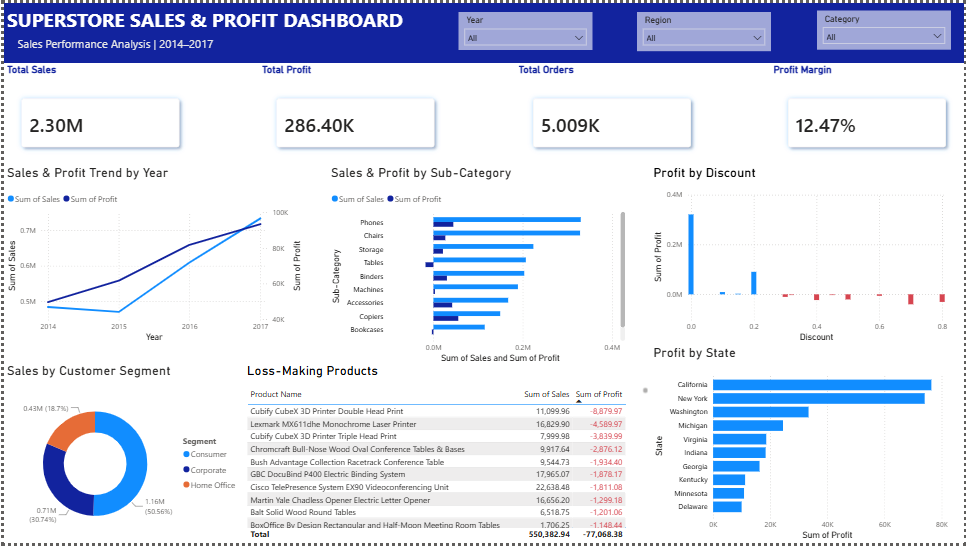

This screenshot's page, from the dashboard's own definition file:
{"tool":"powerbi","page":{"name":"Page 1","canvas":[1600,900],"ordinal":0},"visuals":[{"type":"shape","box":[0,0,1600,100],"z":0},{"type":"cardVisual","title":"Total Sales","fields":{"Data":["Sum(superstore_dataset.Sales)"]},"box":[0,100,321,170],"z":1000},{"type":"cardVisual","title":"Total Profit","fields":{"Data":["Sum(superstore_dataset.Profit)"]},"box":[426.1,100,321,170],"z":2000},{"type":"cardVisual","title":"Total Orders","fields":{"Data":["Count(superstore_dataset.Order ID)"]},"box":[852.2,100,321,170],"z":3000},{"type":"cardVisual","title":"Profit Margin","fields":{"Data":["superstore_dataset.Profit Margin"]},"box":[1278.3,100,321.7,170],"z":4000},{"type":"lineChart","title":"Sales & Profit Trend by Year","fields":{"Category":["superstore_dataset.Order Date.Variation.Date Hierarchy.Year"],"Y":["Sum(superstore_dataset.Sales)"],"Y2":["Sum(superstore_dataset.Profit)"]},"box":[0,270,500,300],"z":5000},{"type":"clusteredBarChart","title":"Sales & Profit by Sub-Category","fields":{"Category":["superstore_dataset.Sub-Category"],"Y":["Sum(superstore_dataset.Sales)","Sum(superstore_dataset.Profit)"]},"box":[538.8,270,500,330],"z":6000},{"type":"clusteredBarChart","title":"Profit by State","fields":{"Category":["superstore_dataset.State"],"Y":["Sum(superstore_dataset.Profit)"]},"box":[1078,570,500,330],"z":7000},{"type":"clusteredColumnChart","title":"Profit by Discount","fields":{"Category":["superstore_dataset.Discount"],"Y":["Sum(superstore_dataset.Profit)"]},"box":[1077.5,270,500,300],"z":8000},{"type":"donutChart","title":"Sales by Customer Segment","fields":{"Category":["superstore_dataset.Segment"],"Y":["Sum(superstore_dataset.Sales)"]},"box":[0,600,400,300],"z":9000},{"type":"tableEx","title":"Loss-Making Products","fields":{"Values":["superstore_dataset.Product Name","Sum(superstore_dataset.Sales)","Sum(superstore_dataset.Profit)"]},"box":[399.6,600,678.3,300],"z":10000},{"type":"slicer","fields":{"Values":["superstore_dataset.Order Date.Variation.Date Hierarchy.Year"]},"box":[756.7,15,223.3,63.3],"z":11000},{"type":"slicer","fields":{"Values":["superstore_dataset.Region"]},"box":[1055,15,223.3,65],"z":12000},{"type":"slicer","fields":{"Values":["superstore_dataset.Category"]},"box":[1355,13.3,223.3,65],"z":13000},{"type":"textbox","box":[0,0,680,78.3],"z":14000},{"type":"textbox","box":[18.3,50,520,50],"z":15000}]}

Visuals, with their boxes in screenshot pixels (x1, y1, x2, y2), scaled from the page's 1600x900 canvas onto the 966x547 screenshot:
shape: 0,0,965,61
"Total Sales" cardVisual: 0,61,194,164
"Total Profit" cardVisual: 257,61,451,164
"Total Orders" cardVisual: 515,61,708,164
"Profit Margin" cardVisual: 772,61,965,164
"Sales & Profit Trend by Year" lineChart: 0,164,302,346
"Sales & Profit by Sub-Category" clusteredBarChart: 325,164,627,365
"Profit by State" clusteredBarChart: 651,346,953,546
"Profit by Discount" clusteredColumnChart: 651,164,952,346
"Sales by Customer Segment" donutChart: 0,365,242,546
"Loss-Making Products" tableEx: 241,365,651,546
slicer - superstore_dataset.Order Date.Variation.Date Hierarchy.Year: 457,9,592,48
slicer - superstore_dataset.Region: 637,9,772,49
slicer - superstore_dataset.Category: 818,8,953,48
textbox: 0,0,411,48
textbox: 11,30,325,61
